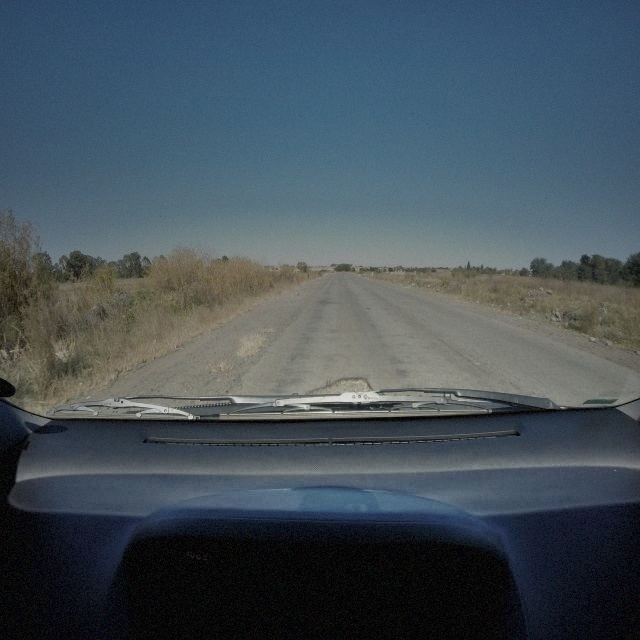pothole: (307, 371, 375, 399)
